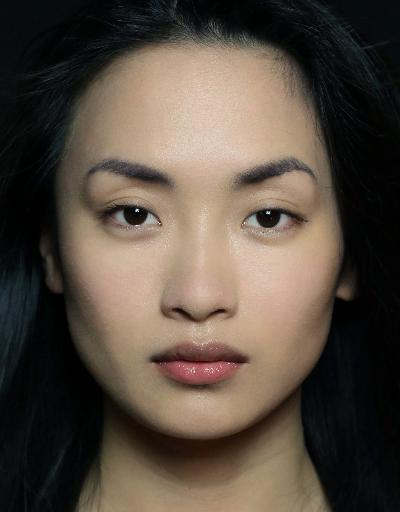left_eye: (238, 206, 308, 242)
left_lip_corner: (238, 351, 256, 373)
right_eye: (98, 203, 166, 236)
right_lip_corner: (146, 351, 165, 374)
